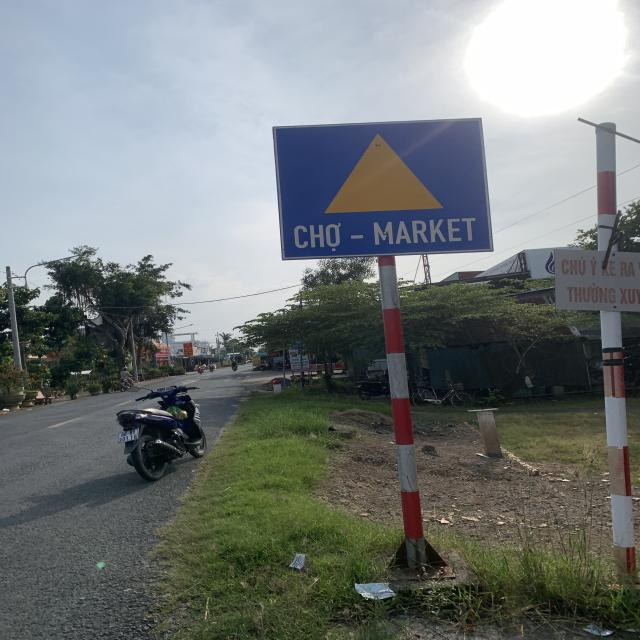Cho_Quay_Xe: (272, 116, 496, 261)
